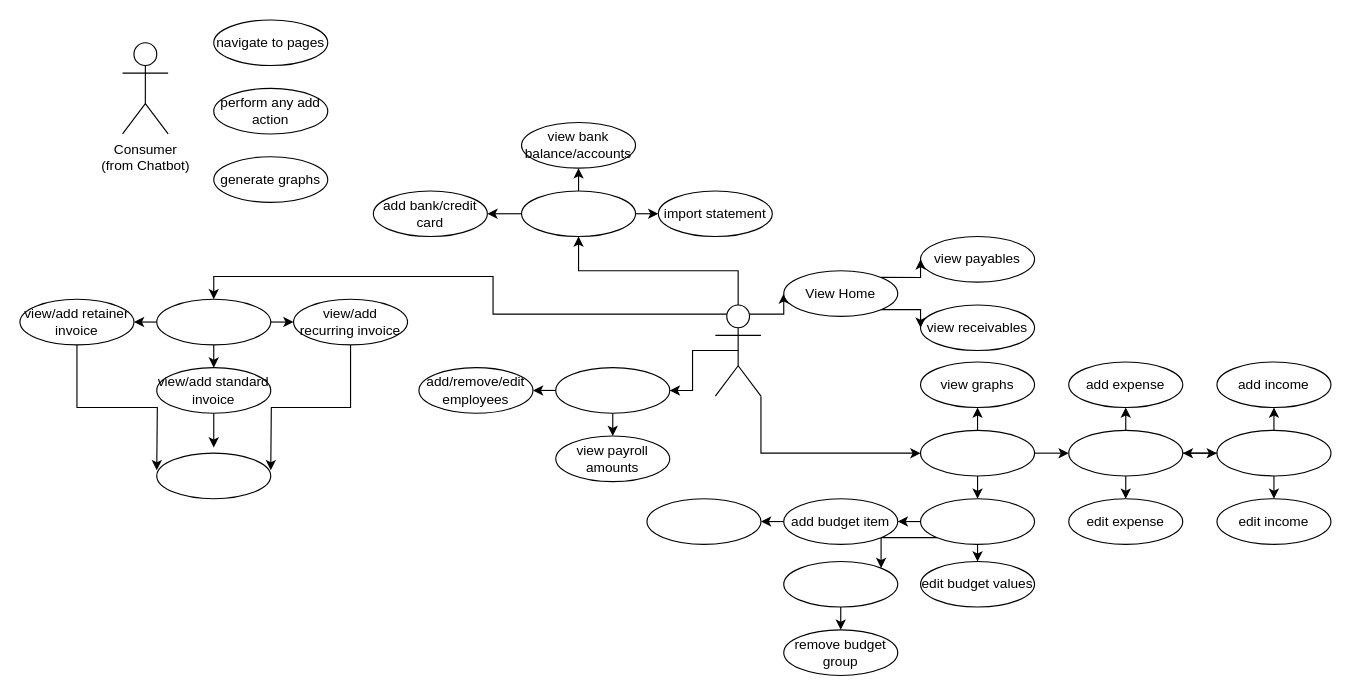
This 1351x695 diagram has some shape labels left out. The shapes that lost their labels are listed below. From the top down, each one's centre as x and y in pixels, then its label:
At (578,213): "View Treasury".
At (213,321): "View Invoicing".
At (737,350): "Consumer".
At (612,390): "View Payroll".
At (977,452): "View Accounting".
At (1125,452): "view expense".
At (1273,452): "view income".
At (213,475): "edit invoice".
At (703,521): "remove budget item".
At (977,521): "view budget".
At (840,583): "add budget group".
